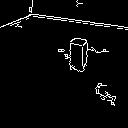cube: (62, 35, 92, 70)
